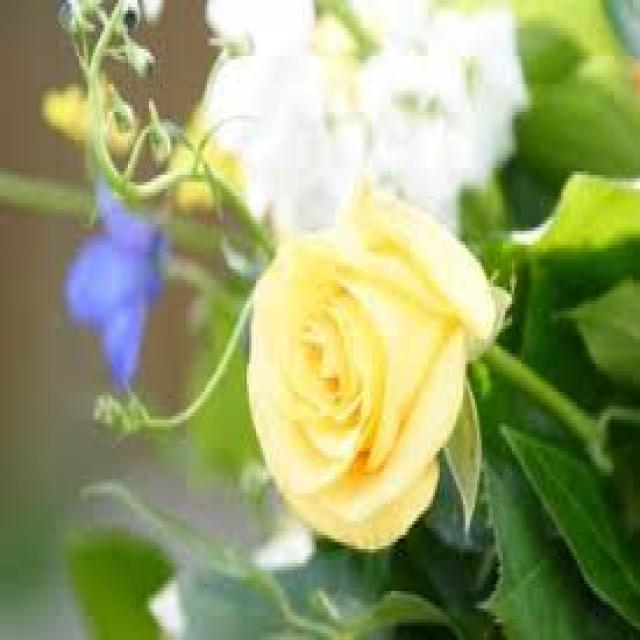rose: (243, 177, 517, 551)
